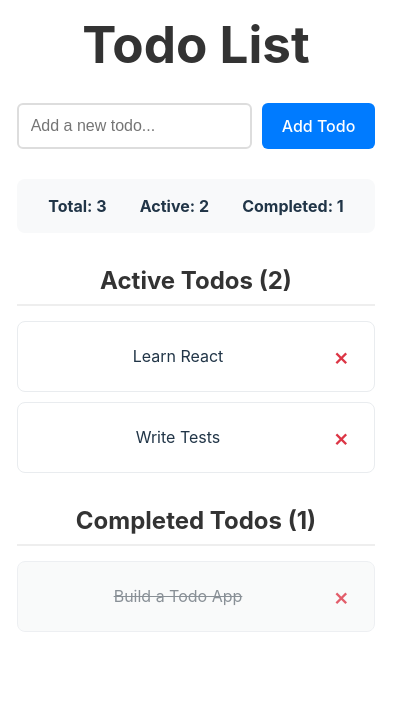
it: TodoList Component › adds a new todo
This screenshot has width=393, height=722.
In the field with placeholder "Add a new todo...": (134, 126) [17,103,252,149], type "New Test Todo"
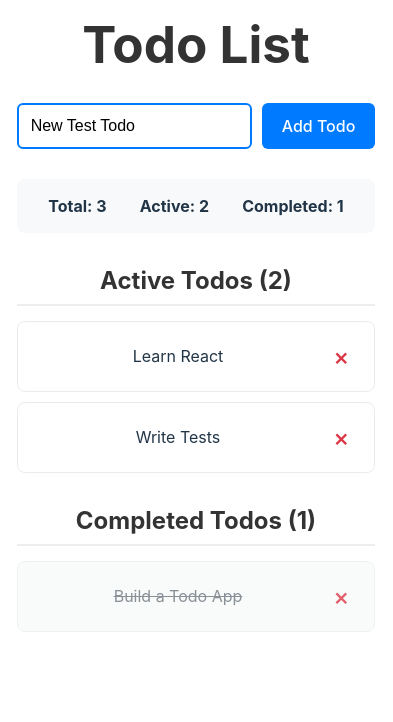
Click the button "Add Todo": (319, 126) [262,103,375,149]
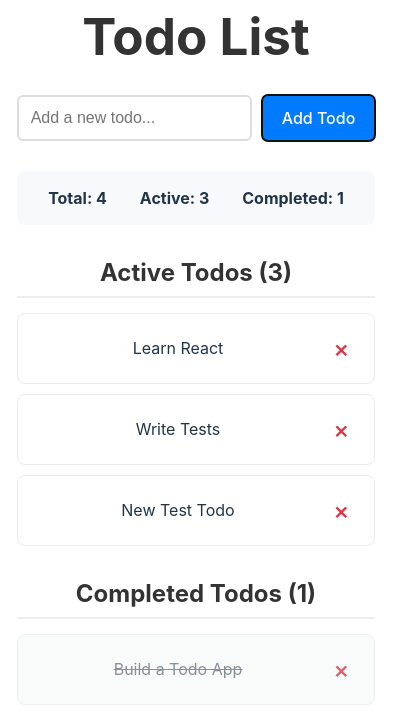
Result: the text "New Test Todo" is shown at [121,500,235,520]
Result: the text "Total: 4" is shown at [48,186,107,210]
Result: the text "Active: 3" is shown at [140,186,209,210]
